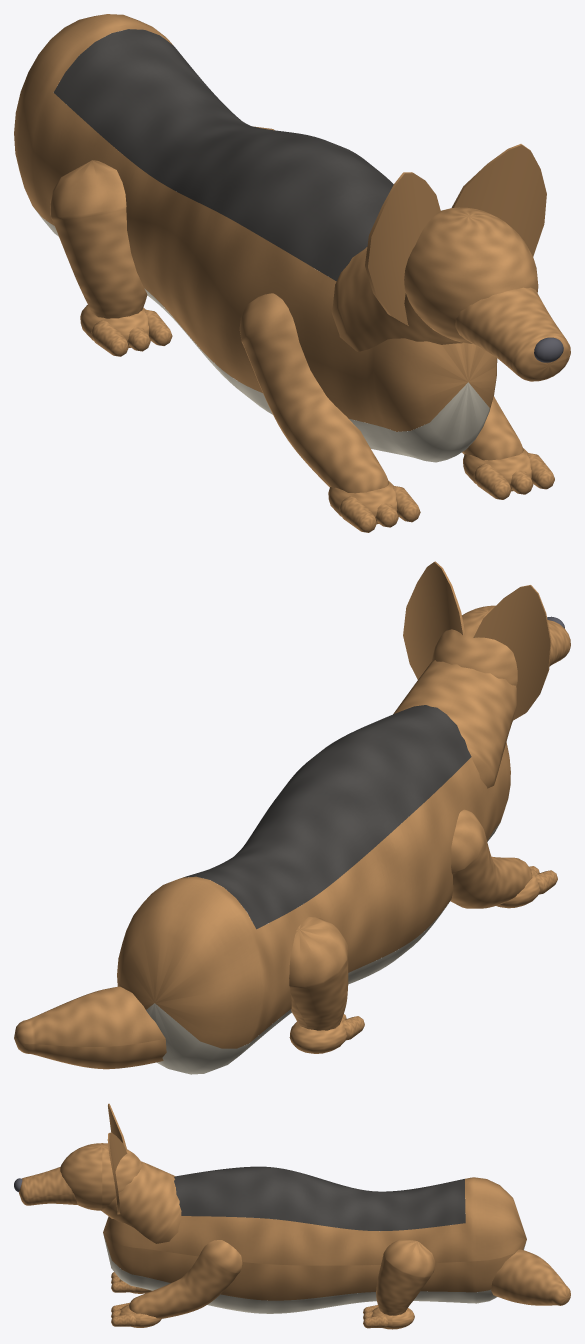
Rendered from pets-and-companions-hd-german-shepherd-lying-6aef8cd7__28140.glb.
3 views of the same model, one above another, from view 1: azimuth 30°, elevation 25°; view 2: azimuth 150°, elevation 25°; view 3: azimuth 270°, elevation 25° (orthographic). The views are drawn at different scales.
Parts seen in each view (by area): view 1: german-shepherd-lying; view 2: german-shepherd-lying; view 3: german-shepherd-lying.
Part boxes in pixels (left/top/right/bottom): german-shepherd-lying: left=14, top=14, right=570, bottom=532; german-shepherd-lying: left=14, top=561, right=570, bottom=1074; german-shepherd-lying: left=14, top=1103, right=570, bottom=1329.
Size of the model in its own units: 0.3154 by 0.4326 by 1.14.
Materials: 4 (3 with a texture image).
